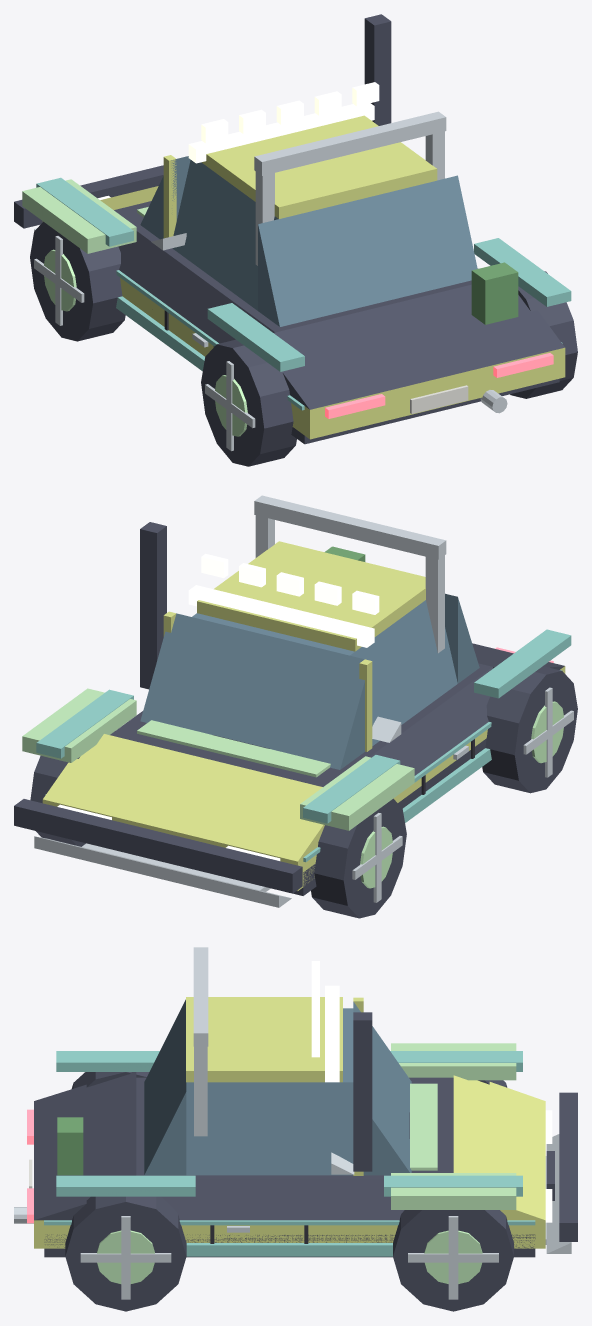
The model's file is forest_falcon.glb.
3 renders of one model, top to bottom at view 1: azimuth 30°, elevation 25°; view 2: azimuth 150°, elevation 25°; view 3: azimuth 270°, elevation 25°, orthographic. The views are drawn at different scales.
Parts seen in each view (by area): view 1: RearWindow.169, Tail.069, Roof.269, CabinSideL.066, Body.269, Wheel_RL.229, Wheel_FL.229, ShoulderL.066, RollBar.062, Fender-1.062, Arch-1True.145, Jerrycan.015 (+22 smaller); view 2: Windshield.169, Nose.066, Roof.269, BashBar.062, CabinSideL.066, Wheel_RL.229, Wheel_FL.229, ShoulderL.066, RollBar.062, Snorkel.018, BodyUpper.066, Bumper.265 (+31 smaller); view 3: CabinSideR.066, Roof.269, Tail.069, Nose.066, ShoulderR.066, Wheel_RR.229, Wheel_FR.229, RearWindow.169, Body.269, Windshield.169, BodyUpper.066, Fender1.062 (+24 smaller).
Part boxes in pixels (x1,y1,x2,y2): RearWindow.169: (258, 175, 477, 326); Tail.069: (274, 284, 564, 409); Roof.269: (202, 115, 437, 218); CabinSideL.066: (172, 160, 278, 310); Body.269: (42, 221, 565, 439); Wheel_RL.229: (201, 339, 296, 466); Wheel_FL.229: (30, 221, 125, 341); ShoulderL.066: (118, 231, 274, 343); RollBar.062: (254, 111, 446, 175); Fender-1.062: (22, 179, 136, 253); Arch-1True.145: (207, 303, 304, 371); Jerrycan.015: (471, 262, 518, 324); Windshield.169: (140, 613, 364, 769); Nose.066: (43, 734, 324, 861); Roof.269: (197, 541, 425, 651); BashBar.062: (14, 799, 302, 893); CabinSideL.066: (350, 600, 457, 745); Wheel_RL.229: (482, 666, 577, 793); Wheel_FL.229: (311, 798, 406, 918); ShoulderL.066: (369, 667, 493, 775); RollBar.062: (254, 495, 446, 559); Snorkel.018: (140, 522, 166, 689); BodyUpper.066: (110, 663, 492, 786); Bumper.265: (34, 836, 291, 907); CabinSideR.066: (186, 1082, 353, 1175); Roof.269: (186, 997, 342, 1082); Tail.069: (34, 1072, 136, 1220); Nose.066: (453, 1075, 545, 1220); ShoulderR.066: (161, 1179, 404, 1220); Wheel_RR.229: (65, 1196, 186, 1311); Wheel_FR.229: (393, 1210, 513, 1311); RearWindow.169: (144, 999, 186, 1175); Body.269: (34, 1220, 545, 1248); Windshield.169: (353, 1002, 411, 1175); BodyUpper.066: (136, 1077, 453, 1179); Fender1.062: (391, 1173, 516, 1209).
Bounding box in the file's own units: 3.46 × 2.9 × 5.4.
